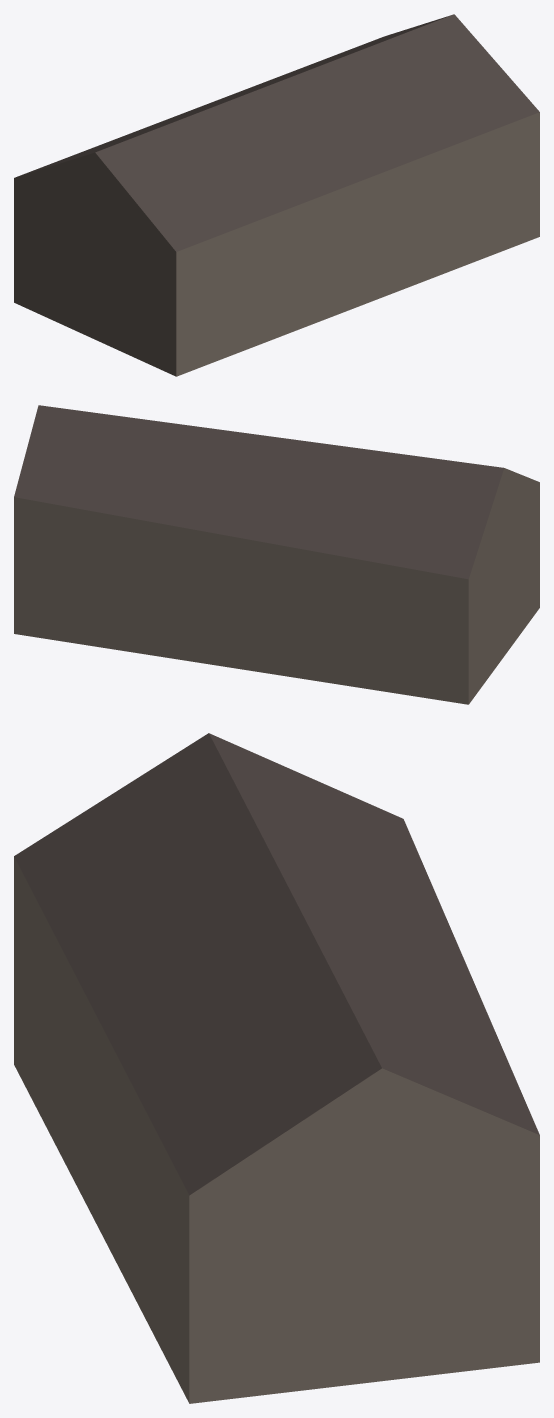
3 renders of one model, top to bottom at view 1: azimuth 30°, elevation 25°; view 2: azimuth 150°, elevation 25°; view 3: azimuth 270°, elevation 25°, orthographic. The views are drawn at different scales.
Visible parts, largest first — view 1: HP-w756797973; view 2: HP-w756797973; view 3: HP-w756797973.
Part boxes in pixels (x1,y1,x2,y2): HP-w756797973: (14,14,539,376); HP-w756797973: (14,405,539,704); HP-w756797973: (14,733,539,1403).
Bounding box in the file's own units: 23.26 × 9.01 × 13.73.
